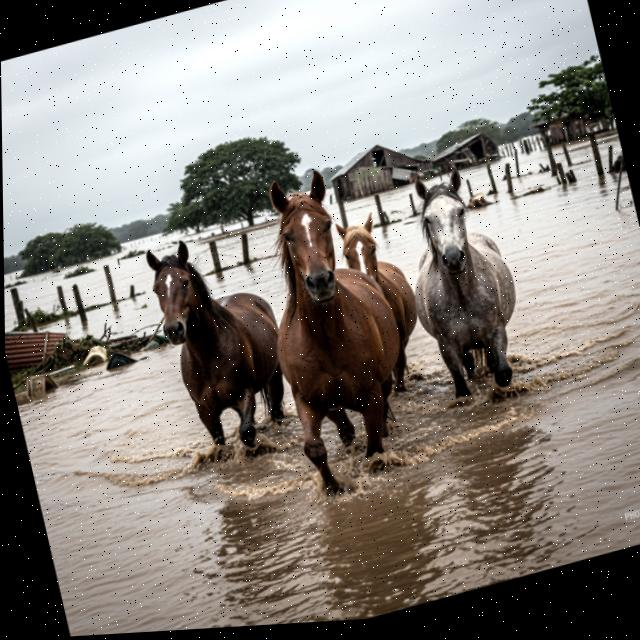horse: (225, 151, 431, 500), (130, 212, 304, 465), (381, 147, 546, 411), (314, 204, 429, 399)
